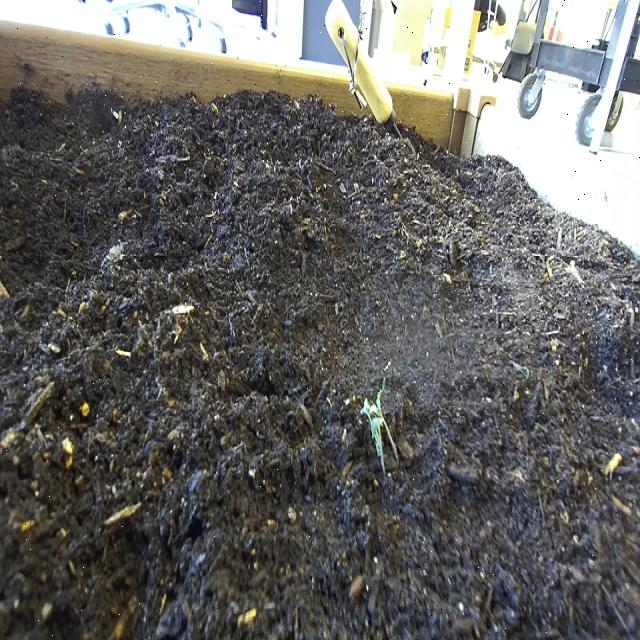Unhealthy: (358, 371, 407, 488)
